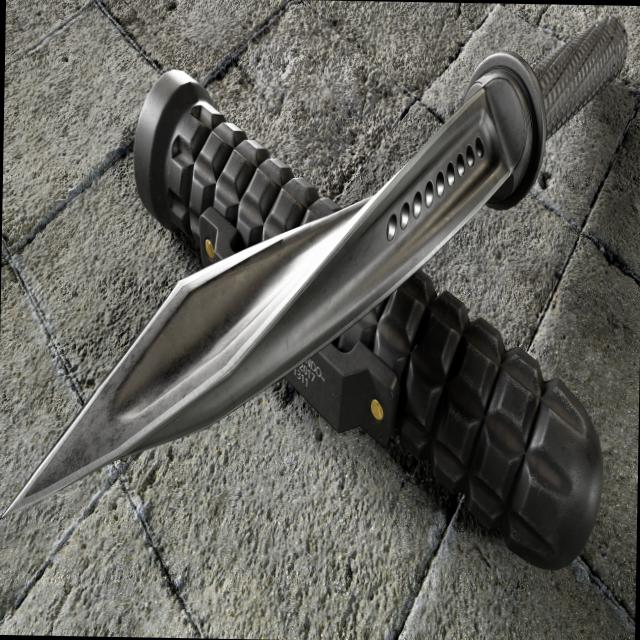Gun: (31, 7, 639, 486)
